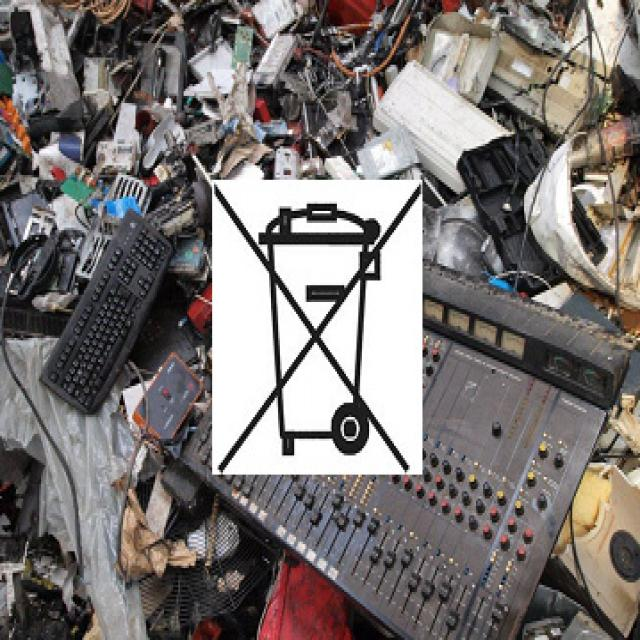hazard: (20, 0, 640, 640)
